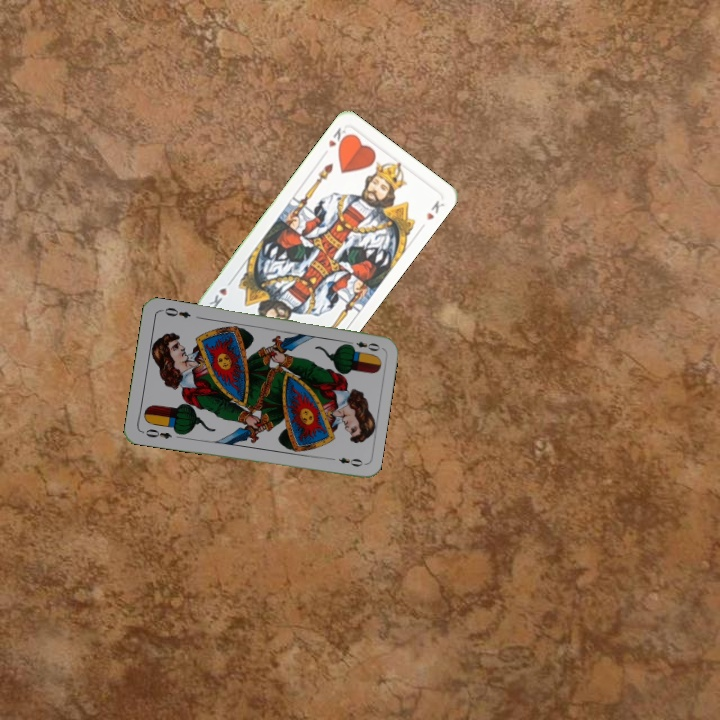EO: (343, 337, 383, 354), (141, 425, 174, 442)
HK: (324, 123, 351, 151)
